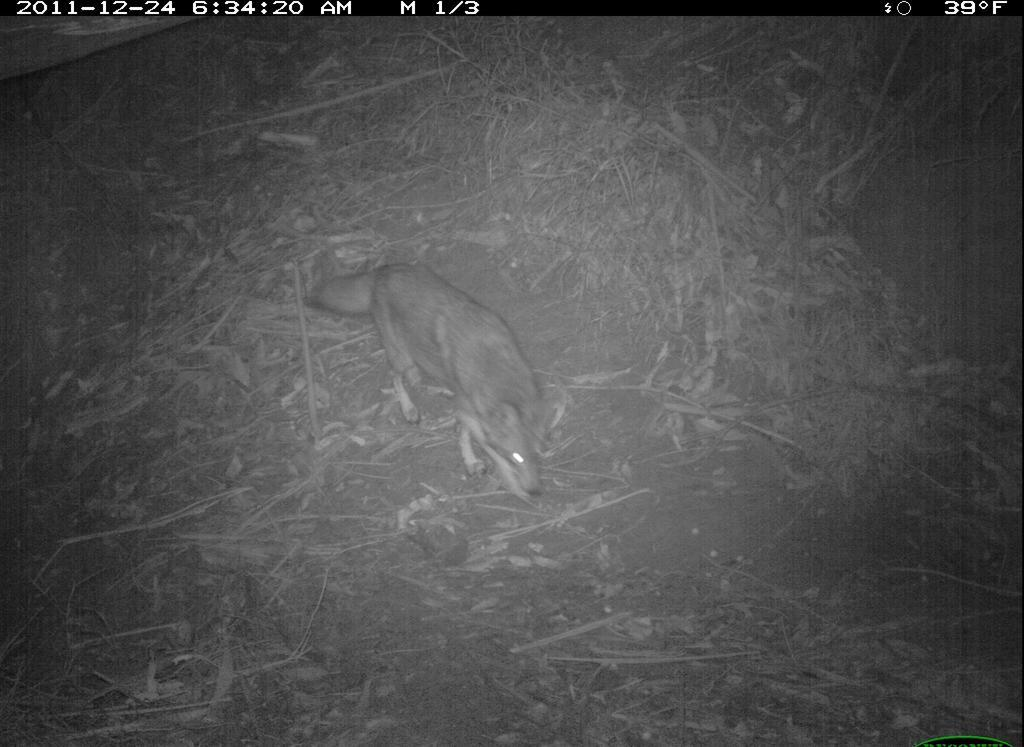coyote: (306, 262, 573, 515)
